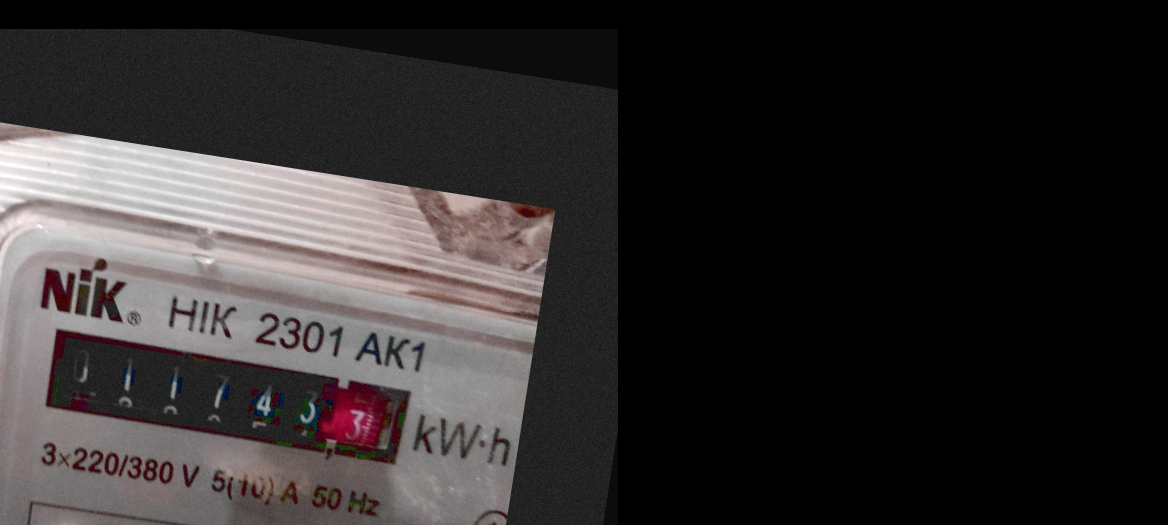0: (67, 345, 94, 387), (116, 352, 140, 395)
1: (162, 360, 184, 403)
3: (295, 384, 321, 430), (341, 404, 367, 445)
4: (251, 377, 277, 420)
7: (204, 367, 234, 414)
screen: (22, 312, 422, 478)
